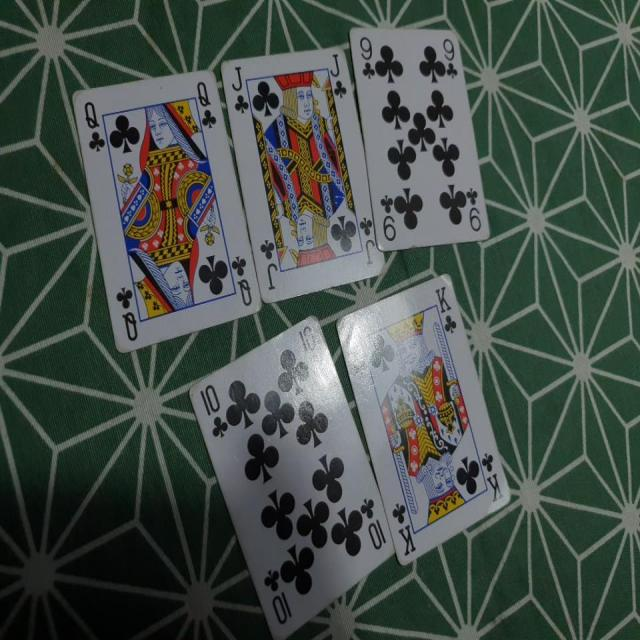10 Trefoils: (188, 312, 393, 640)
9 Trefoils: (345, 24, 489, 255)
J Trefoils: (219, 45, 388, 304)
K Trefoils: (335, 273, 514, 568)
Q Trefoils: (70, 66, 263, 353)
